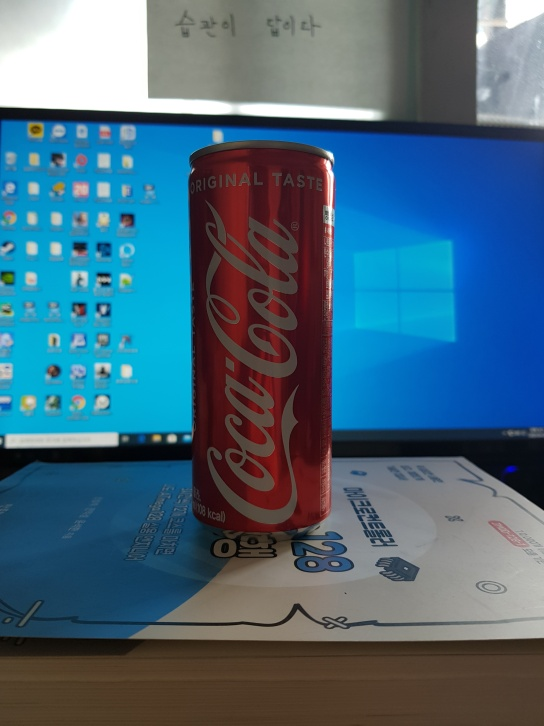Can: (185, 136, 336, 548)
